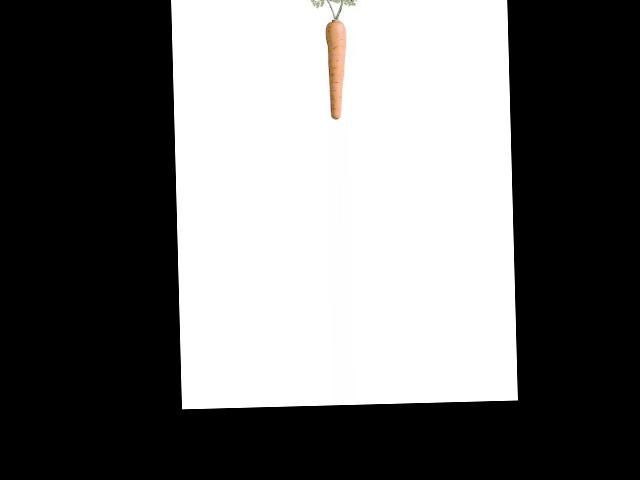carrot: (319, 17, 353, 121)
